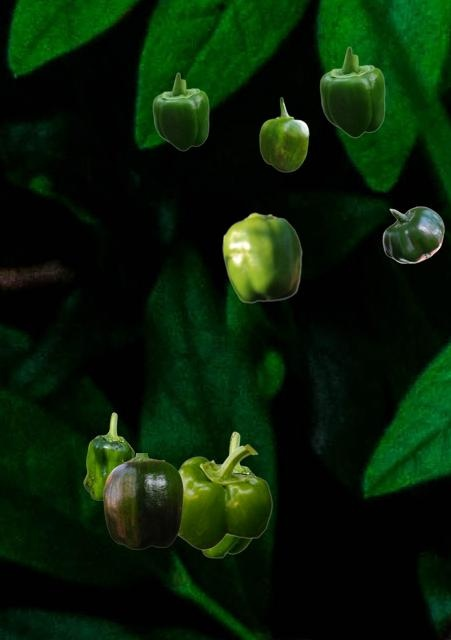bell_pepper: (178, 444, 271, 549), (103, 453, 182, 548), (222, 212, 301, 302), (201, 431, 255, 557), (319, 46, 384, 137), (152, 72, 208, 150), (83, 412, 133, 499), (259, 97, 308, 171), (382, 206, 443, 262)
